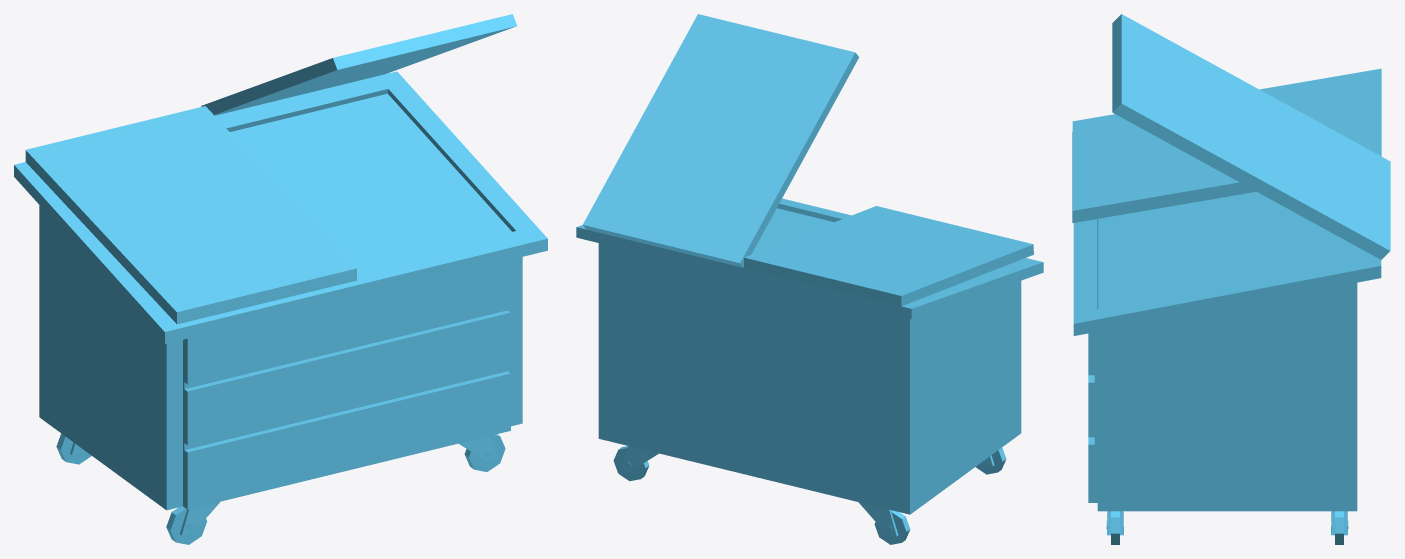
File: Trash.fbx
3 views of the same model, side by side, from view 1: azimuth 30°, elevation 25°; view 2: azimuth 150°, elevation 25°; view 3: azimuth 270°, elevation 25° (orthographic). The views are drawn at different scales.
Parts seen in each view (by area): view 1: Trash, Trash.001, Trash.002, Circle, Circle.001; view 2: Trash, Trash.002, Trash.001, Circle, Circle.001; view 3: Trash, Trash.002, Trash.001, Circle, Circle.001.
Part boxes in pixels (<box>): Trash: <box>14,71,547,510</box>; Trash.001: <box>25,106,356,324</box>; Trash.002: <box>201,14,516,115</box>; Circle: <box>56,433,505,544</box>; Circle.001: <box>70,436,497,535</box>; Trash: <box>576,198,1043,514</box>; Trash.002: <box>583,14,859,267</box>; Trash.001: <box>744,206,1033,306</box>; Circle: <box>613,446,1006,544</box>; Circle.001: <box>620,446,994,536</box>; Trash: <box>1073,191,1381,511</box>; Trash.002: <box>1112,14,1390,259</box>; Trash.001: <box>1072,68,1381,222</box>; Circle: <box>1111,511,1343,544</box>; Circle.001: <box>1107,511,1347,535</box>.
Size of the model in its own units: 198 by 221 by 140.
